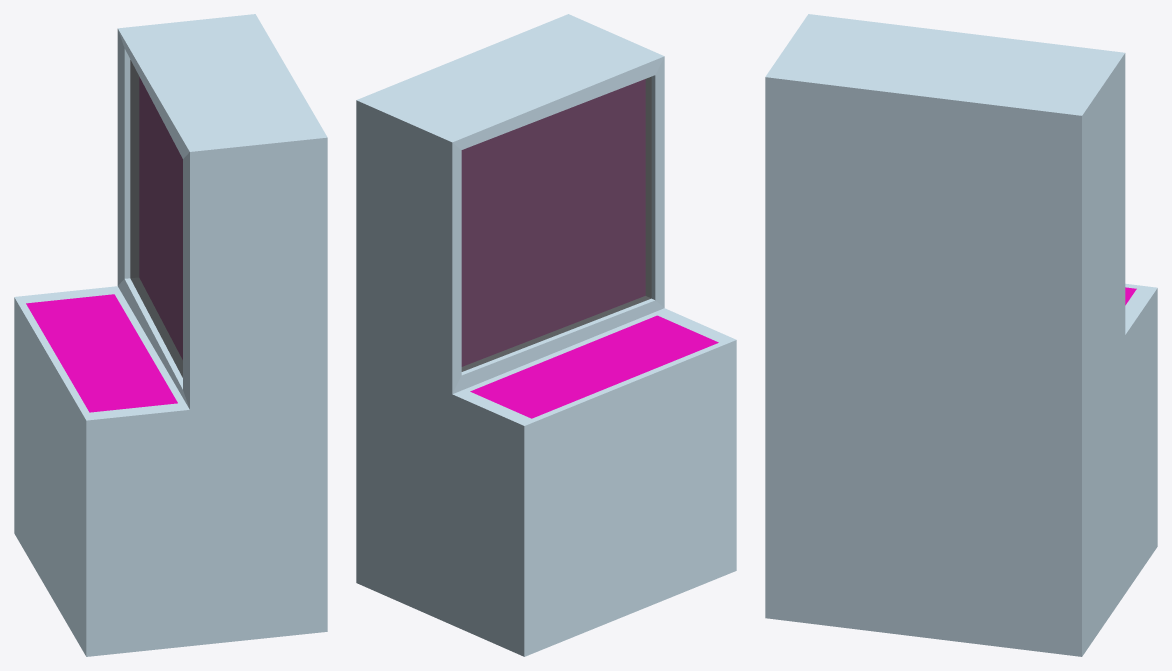
The model's file is EB_SonarStation.fbx.
3 views of the same model, side by side, from view 1: azimuth 30°, elevation 25°; view 2: azimuth 150°, elevation 25°; view 3: azimuth 270°, elevation 25° (orthographic). The views are drawn at different scales.
Parts seen in each view (by area): view 1: SonarStation; view 2: SonarStation; view 3: SonarStation.
Boxes of the visible parts, <box> form: SonarStation: <box>14,14,327,656</box>; SonarStation: <box>356,14,736,656</box>; SonarStation: <box>765,14,1157,656</box>.
Bounding box in the file's own units: 72.13 × 122 × 80.18.
